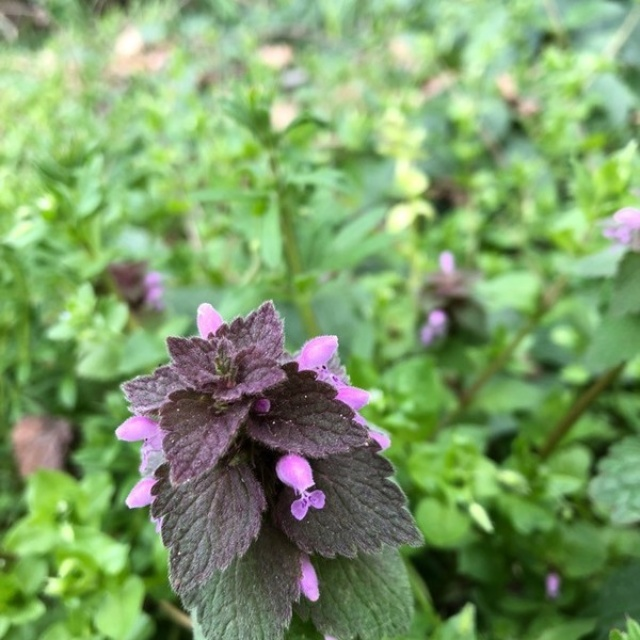obstacle: (108, 292, 429, 617)
